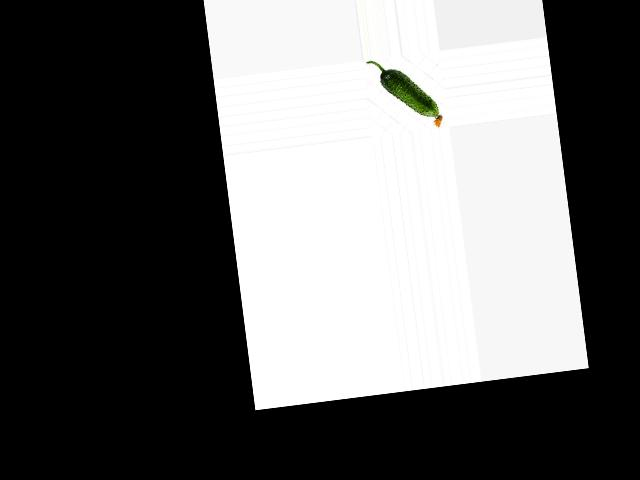cucumber: (366, 53, 443, 136)
